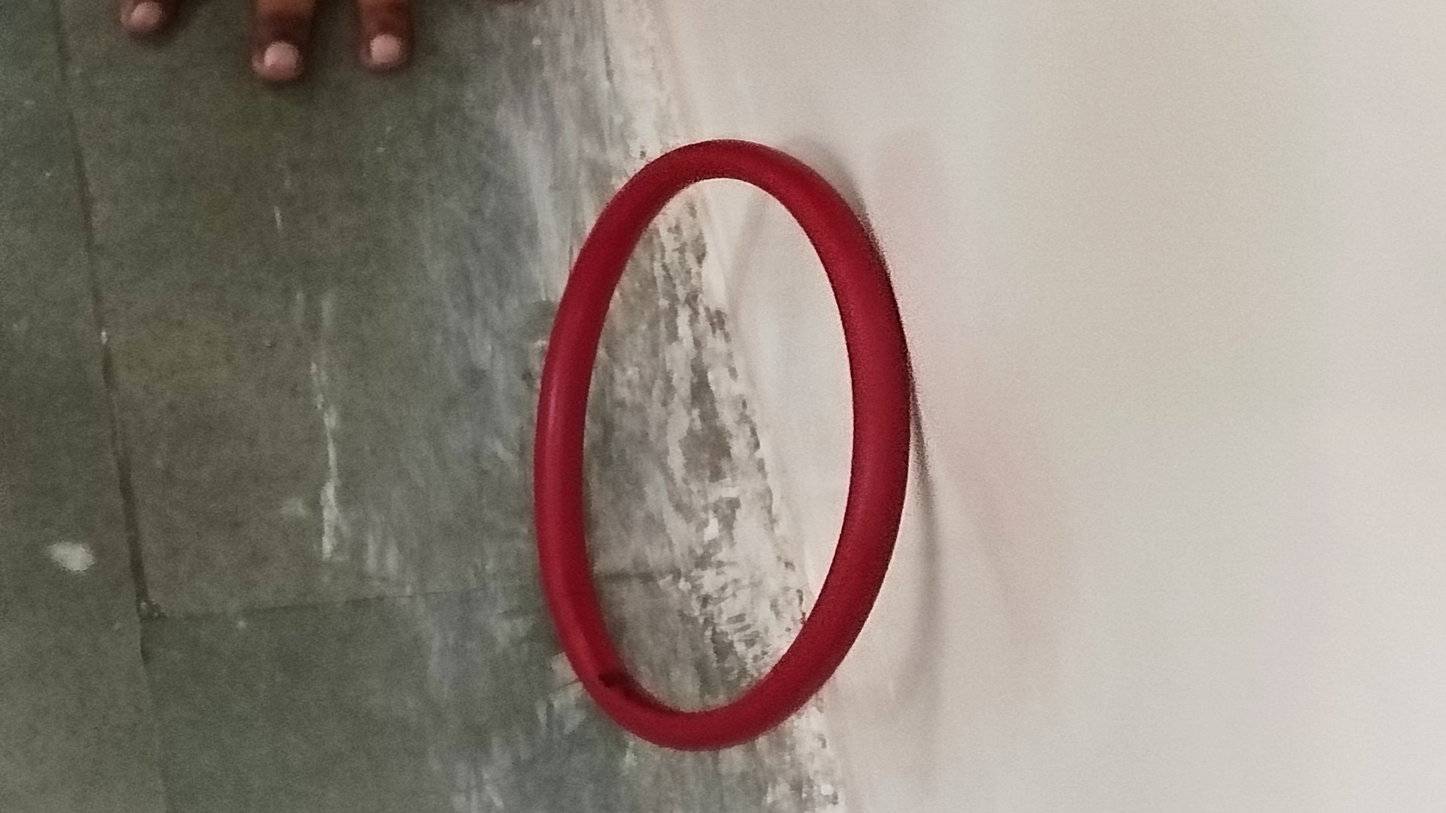Red ring: (529, 139, 898, 748)
